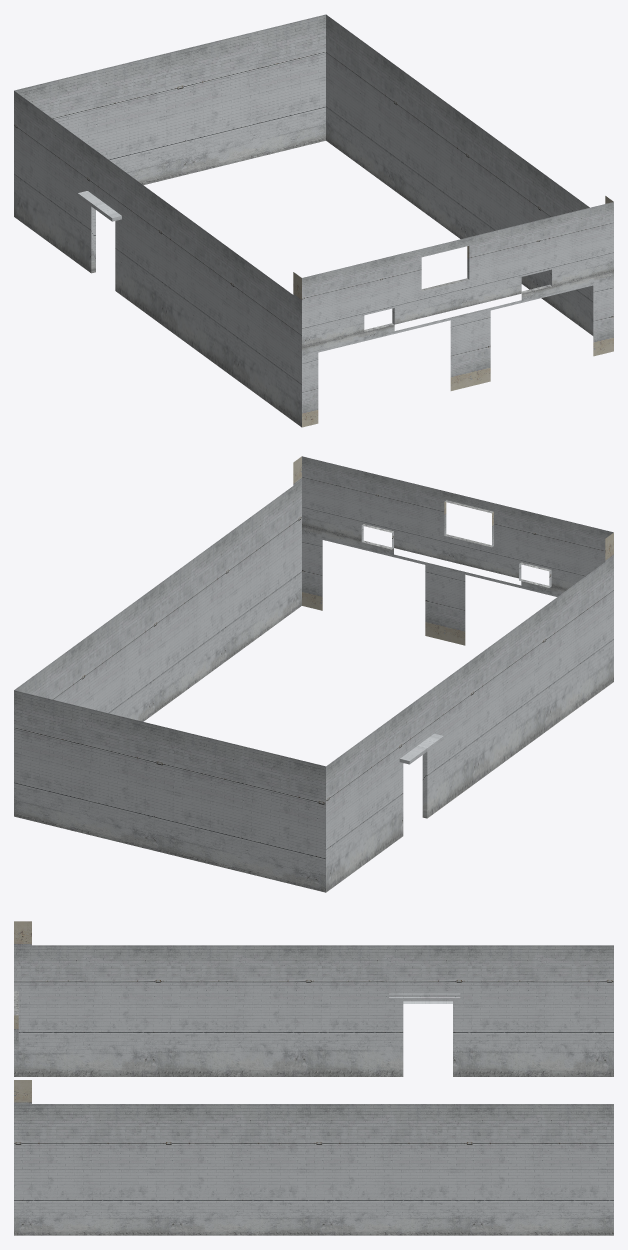
File: rural_storesmall_8_rural_midcity_walls_flr_1_0.glb
3 renders of one model, top to bottom at view 1: azimuth 30°, elevation 25°; view 2: azimuth 150°, elevation 25°; view 3: azimuth 270°, elevation 25°, orthographic. The views are drawn at different scales.
Visible parts, largest first — view 1: Rural_StoreSmall_8_Rural_Midcity_Walls_FLR_1_0; view 2: Rural_StoreSmall_8_Rural_Midcity_Walls_FLR_1_0; view 3: Rural_StoreSmall_8_Rural_Midcity_Walls_FLR_1_0.
Boxes of the visible parts, box(x1,y1,x2,y2) form: Rural_StoreSmall_8_Rural_Midcity_Walls_FLR_1_0: box(14, 14, 613, 427); Rural_StoreSmall_8_Rural_Midcity_Walls_FLR_1_0: box(14, 456, 613, 892); Rural_StoreSmall_8_Rural_Midcity_Walls_FLR_1_0: box(14, 921, 613, 1235).
Size of the model in its own units: 9.17 by 4.07 by 14.2.
Materials: 1 (1 with a texture image).
